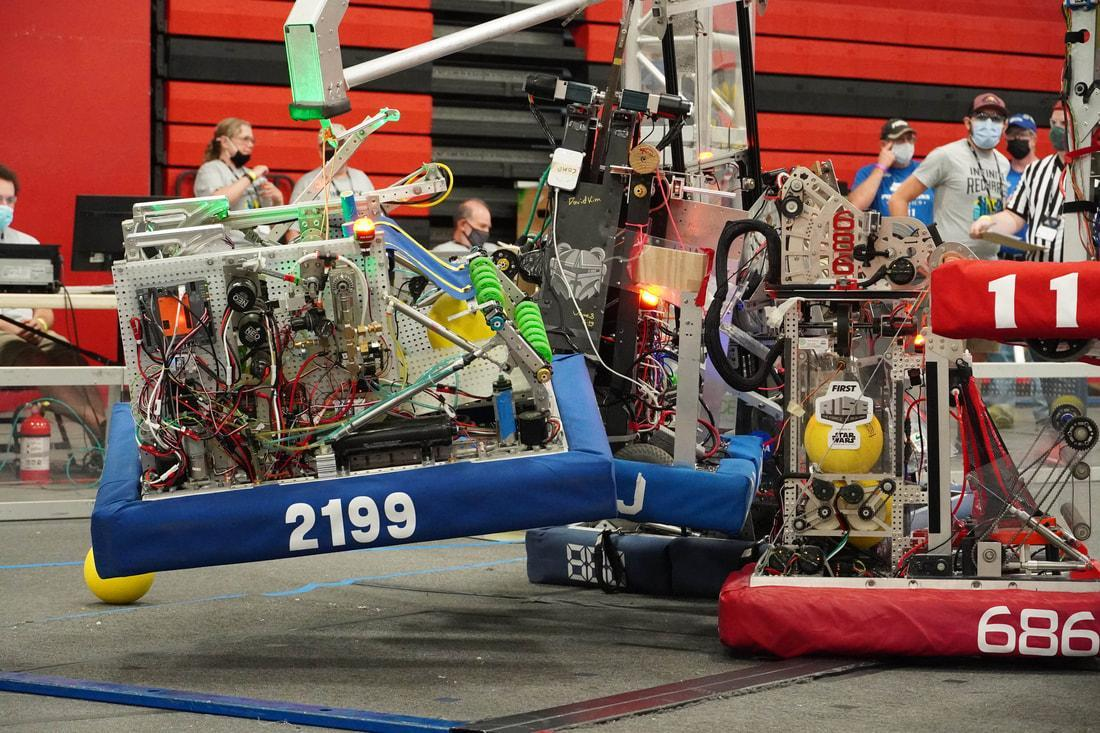robot: (87, 98, 620, 590), (718, 156, 1100, 660), (506, 0, 769, 539), (523, 264, 797, 589), (932, 0, 1100, 340)
